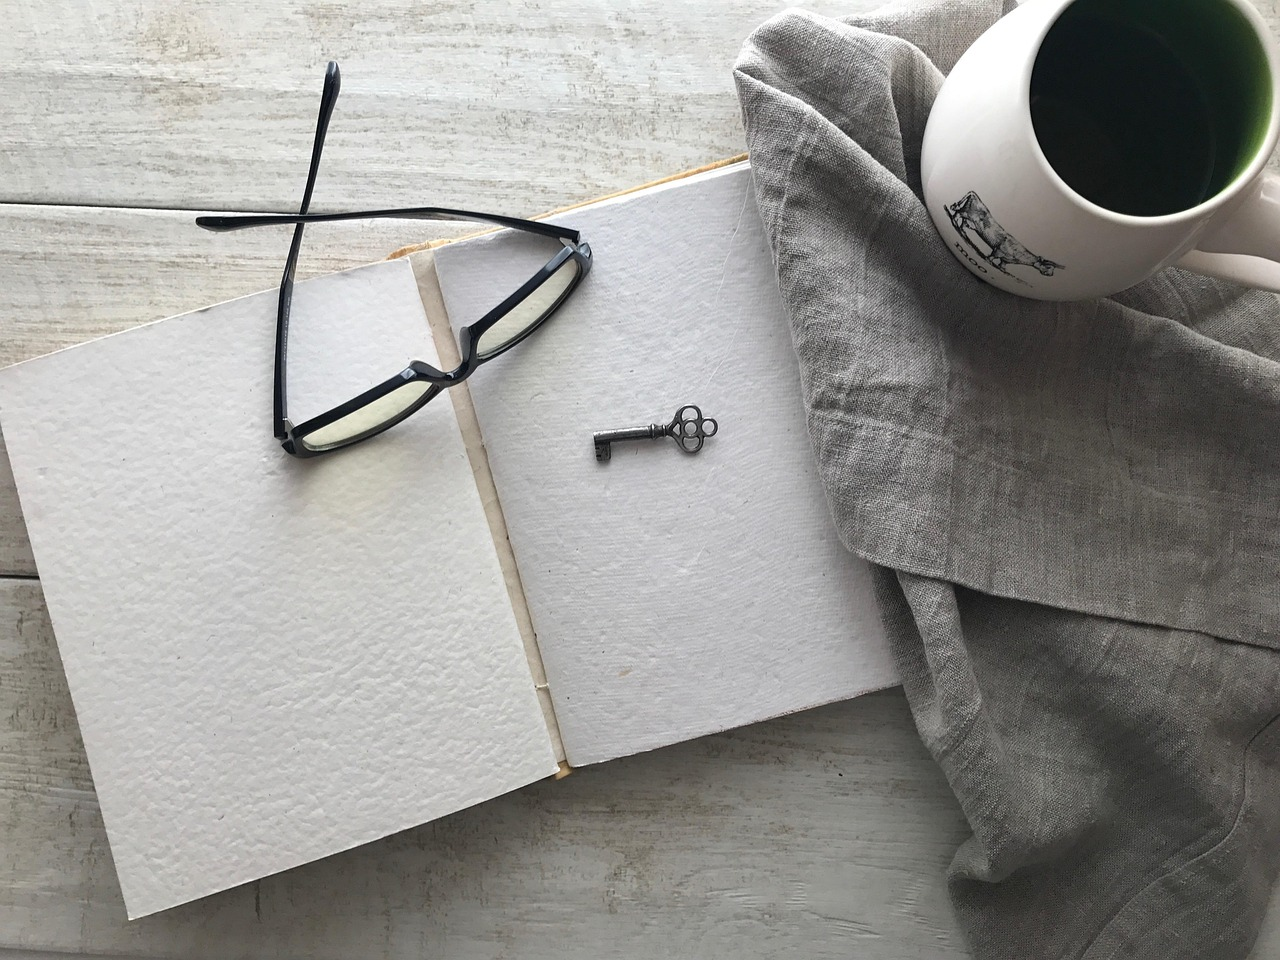mug: (837, 8, 1280, 350)
